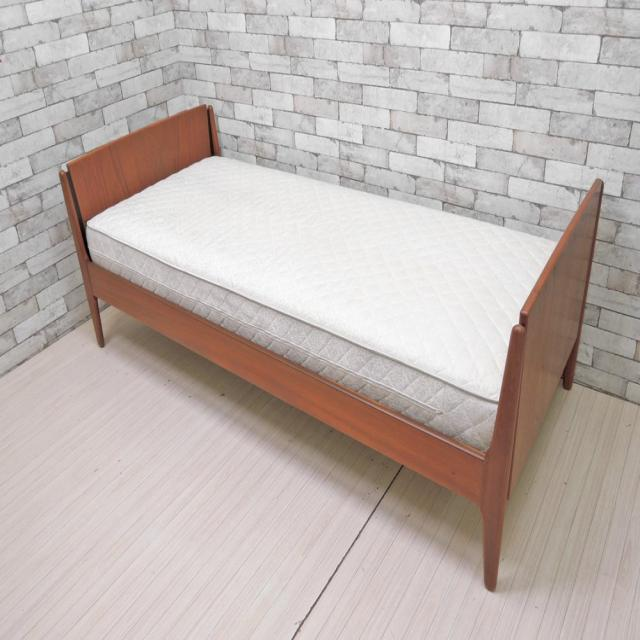bed vintage: (52, 101, 608, 600)
